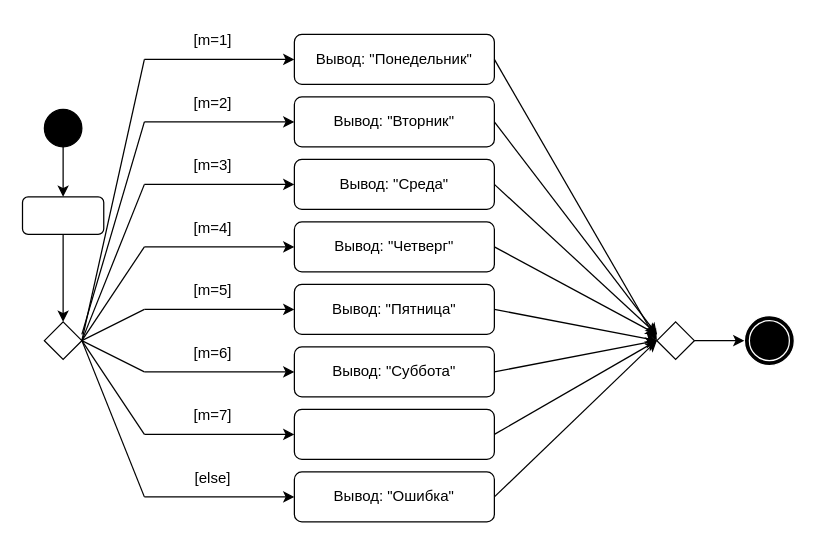
This 816x544 diagram has some shape labels left out. The shapes that lost their labels are listed below. From the top down, each one's centre as x and y in pixels, then its label:
[62,215]: Ввод m
[393,433]: Вывод: "Воскресенье"
